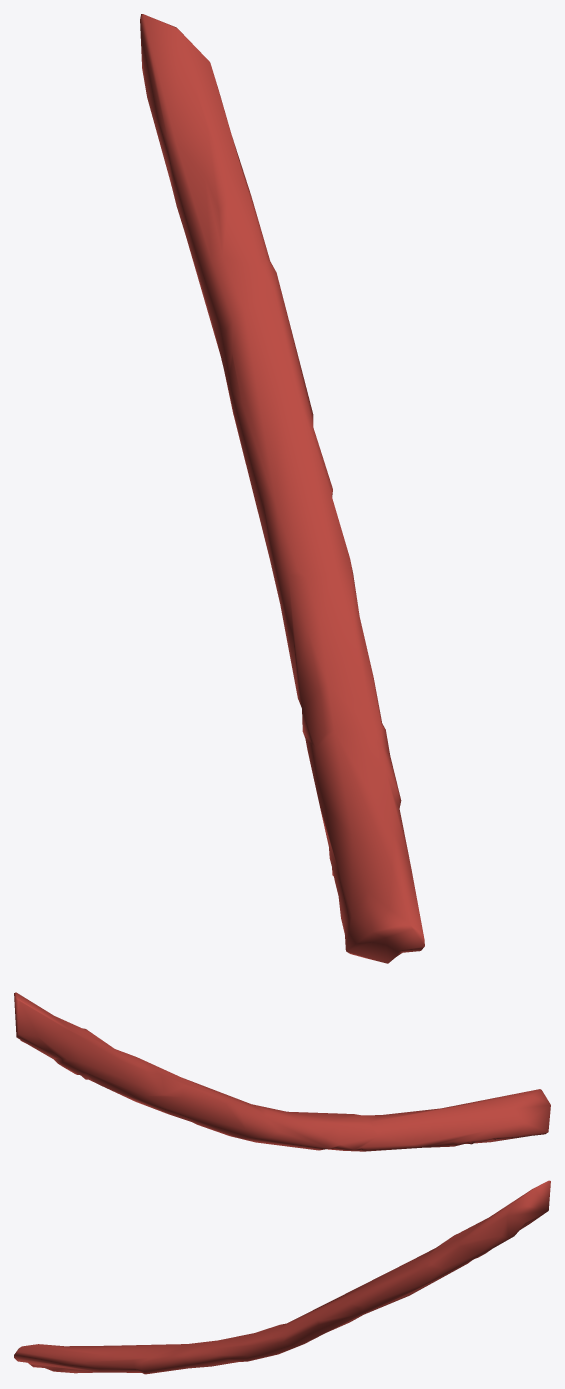
File: musculos-tendinous-arch-of-levator-ani-l.glb
The picture shows the model from 3 angles, top to bottom: view 1: azimuth 30°, elevation 25°; view 2: azimuth 150°, elevation 25°; view 3: azimuth 270°, elevation 25°; orthographic projection. The views are drawn at different scales.
Visible parts, largest first — view 1: Tendinous arch of levator ani.l; view 2: Tendinous arch of levator ani.l; view 3: Tendinous arch of levator ani.l.
Boxes of the visible parts, x1=… form: Tendinous arch of levator ani.l: x1=140, y1=14, x2=424, y2=963; Tendinous arch of levator ani.l: x1=14, y1=992, x2=550, y2=1151; Tendinous arch of levator ani.l: x1=14, y1=1180, x2=550, y2=1374.
Bounding box in the file's own units: 0.0238 × 0.0341 × 0.0653.
